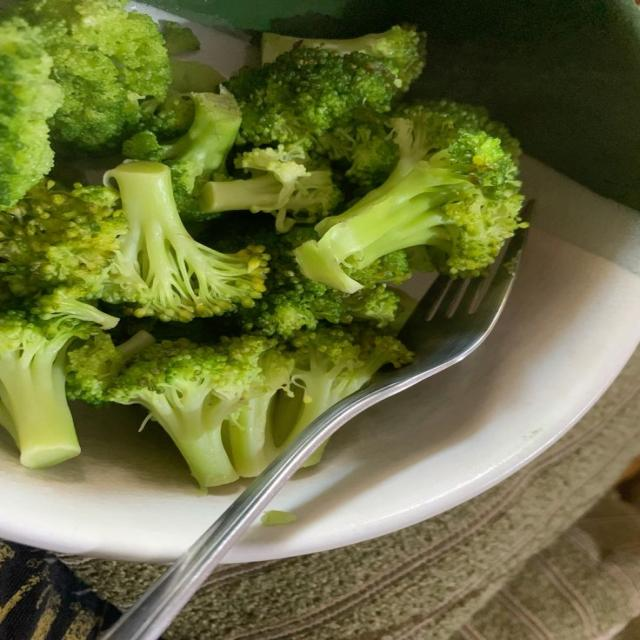broccoli: (296, 109, 522, 292), (107, 336, 283, 487), (103, 162, 268, 321), (8, 0, 170, 153), (213, 216, 410, 337), (0, 180, 127, 328), (226, 48, 398, 145), (277, 325, 413, 446), (0, 310, 99, 468), (123, 92, 241, 219), (200, 145, 342, 232), (0, 18, 62, 208), (261, 25, 426, 91), (228, 349, 293, 476), (393, 100, 521, 160), (67, 331, 155, 406), (316, 114, 398, 190), (139, 88, 194, 157), (170, 59, 226, 93), (160, 21, 199, 56)
